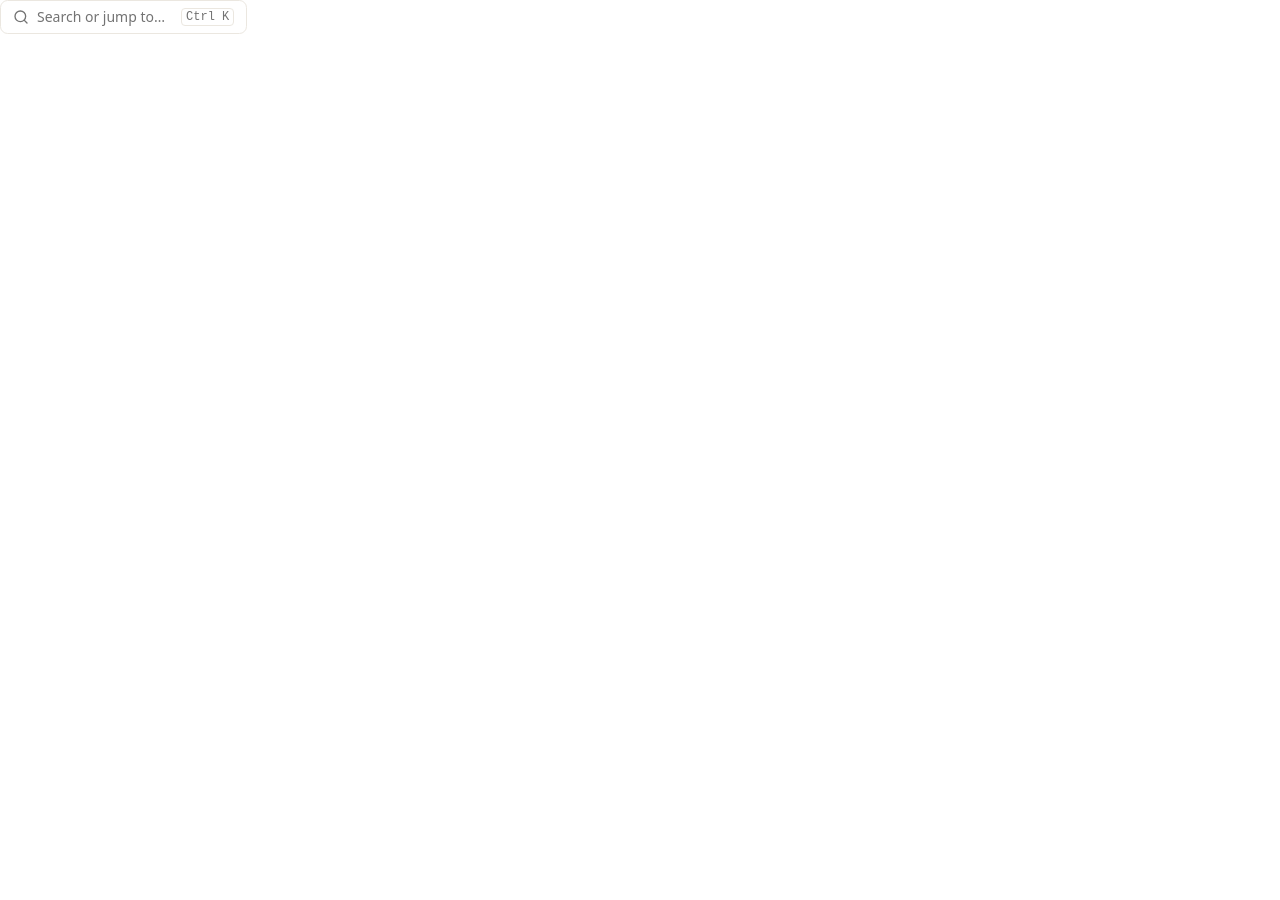
Test: CommandPalette › ⭐ a slow, broader response landing last does not overwrite a newer one
The image size is (1280, 900).
Press k
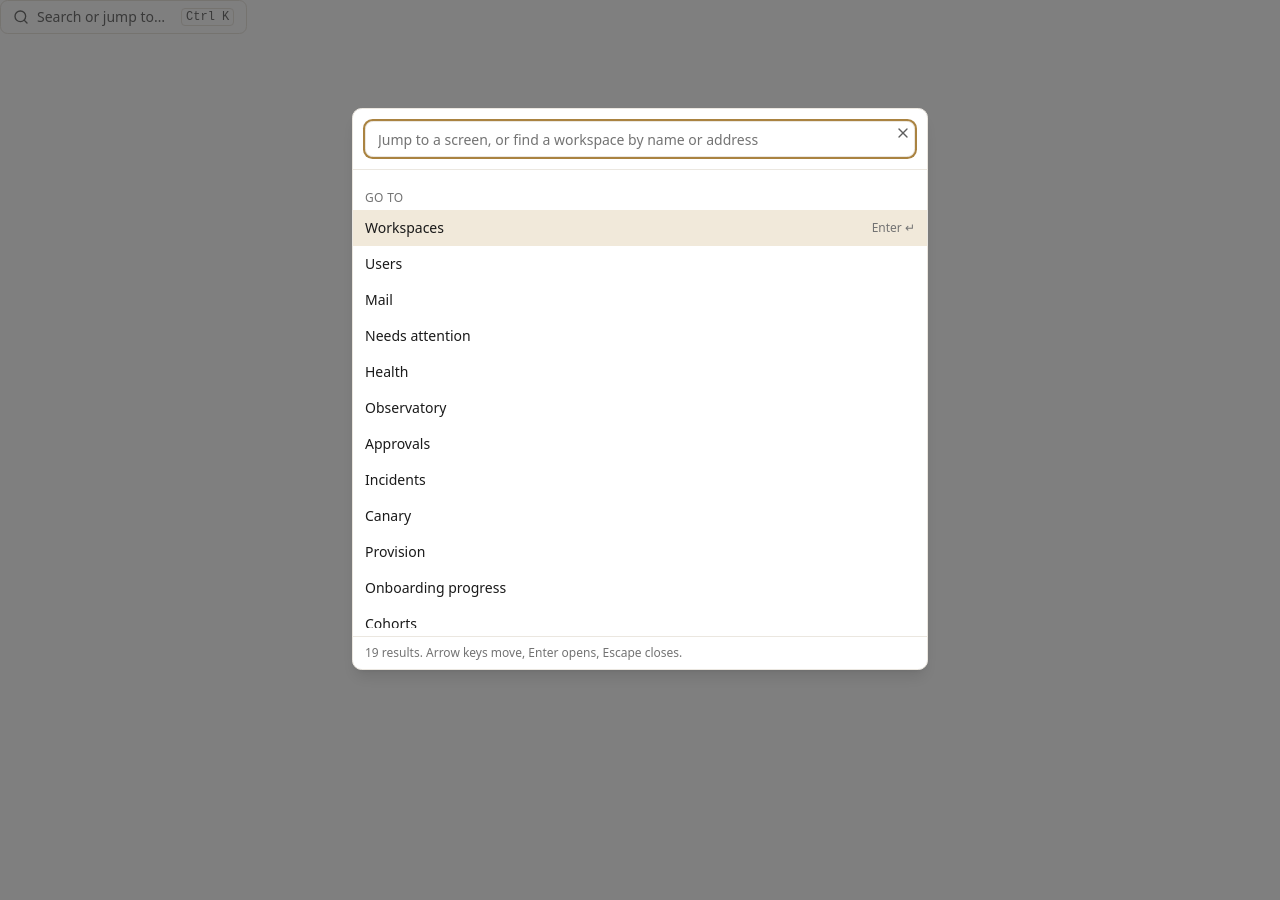
Type "ac" into the field named "Search the console" at (640, 139), box [365, 121, 915, 157]
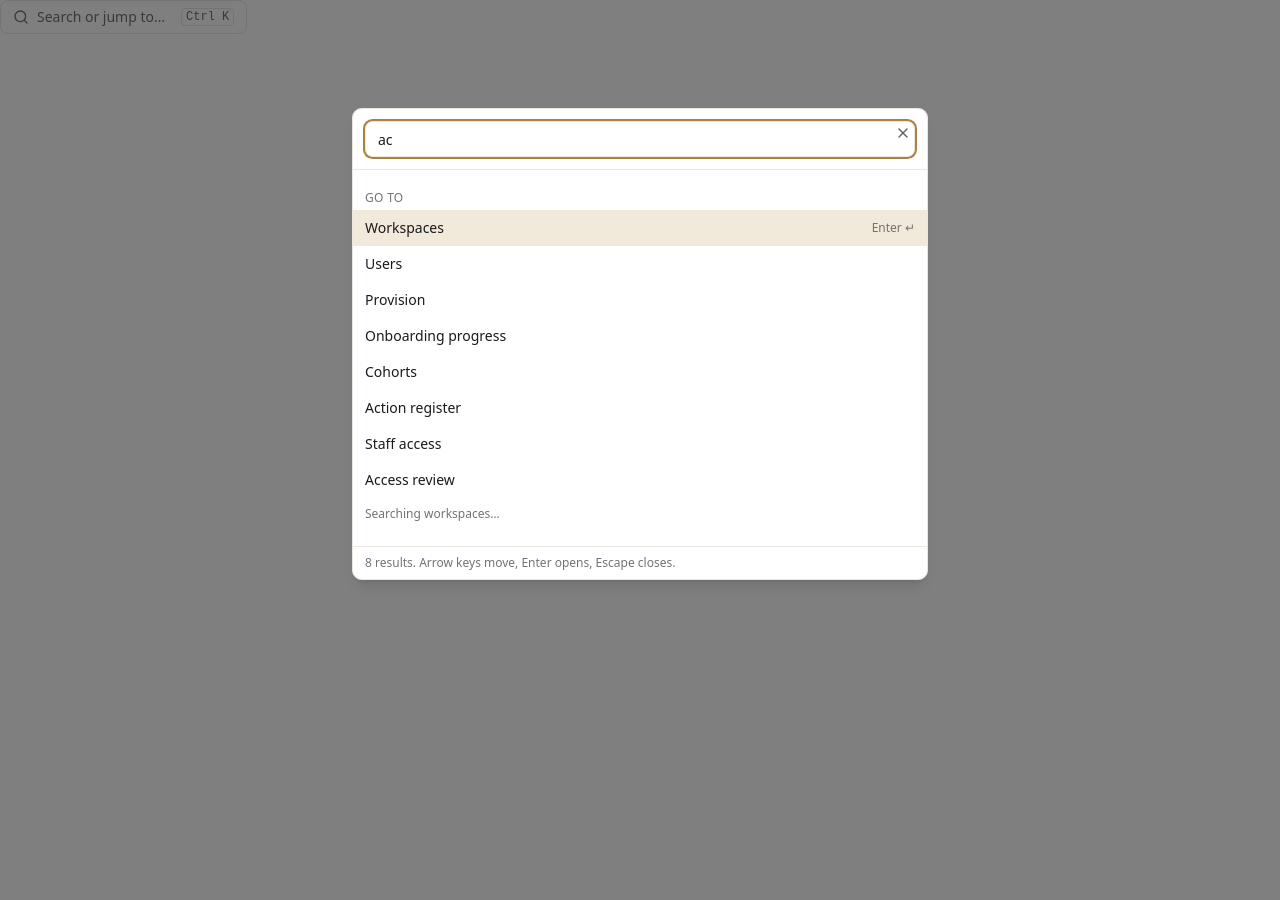
Replace the text in the field named "Search the console" with "acme" at (640, 139), box [365, 121, 915, 157]
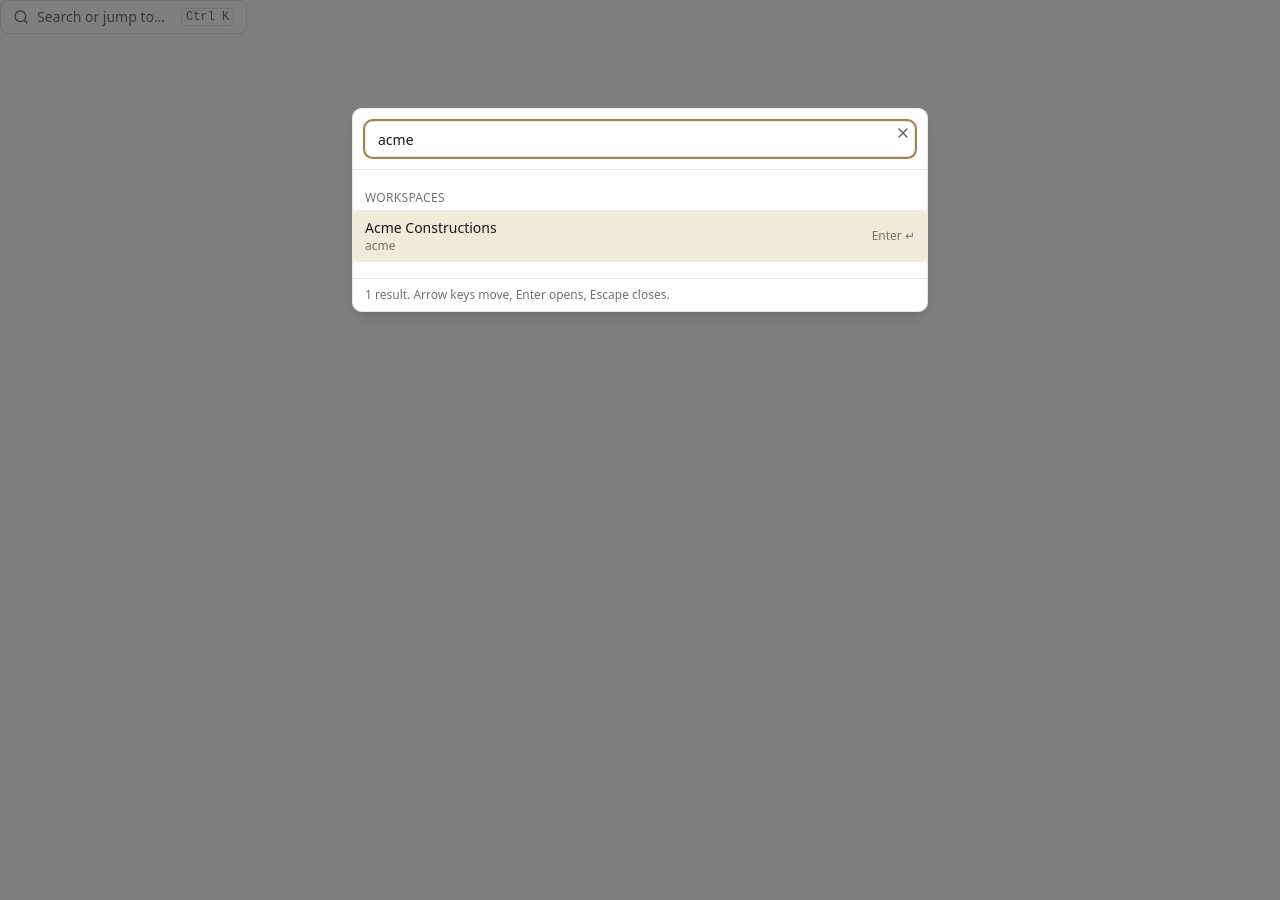
Check: the text "Acme Constructions" is shown, box [365, 218, 497, 237]
